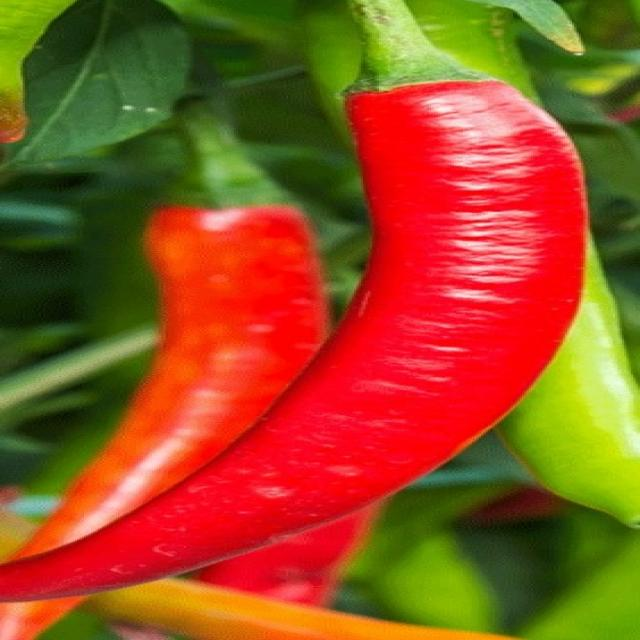red chili: (9, 1, 577, 602)
